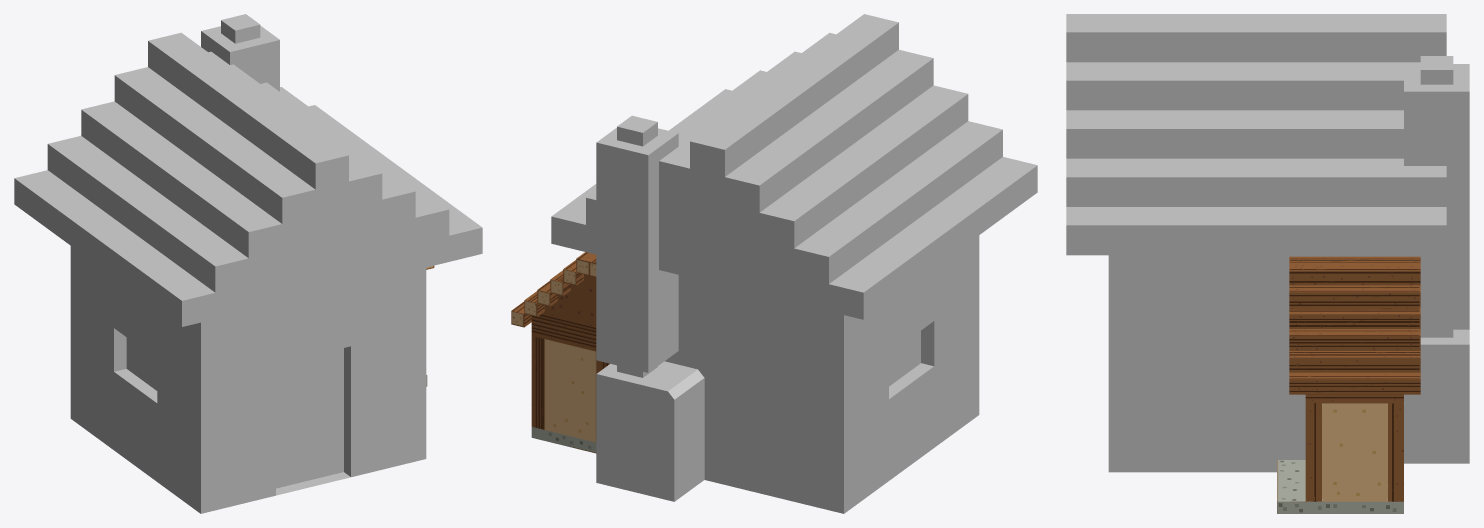
Rendered from house01.FBX.
The picture shows the model from 3 angles, left to right: view 1: azimuth 30°, elevation 25°; view 2: azimuth 150°, elevation 25°; view 3: azimuth 270°, elevation 25°; orthographic projection. The views are drawn at different scales.
Visible parts, largest first — view 1: Object002; view 2: Object002, Box023; view 3: Object002, Box023.
Boxes of the visible parts, x1,y1,x2,y2 form: Object002: (14, 14, 482, 513); Object002: (551, 14, 1037, 513); Box023: (511, 252, 609, 453); Object002: (1066, 14, 1469, 472); Box023: (1277, 256, 1420, 513).
Bounding box in the file's own units: 840 × 780 × 738.
